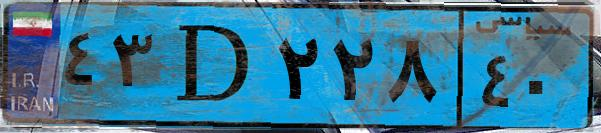0: (525, 38, 570, 115)
2: (270, 28, 330, 110), (330, 28, 385, 110)
3: (110, 28, 158, 98)
4: (57, 26, 110, 100), (475, 38, 525, 113)
8: (385, 28, 445, 110)
D: (158, 12, 270, 120)
